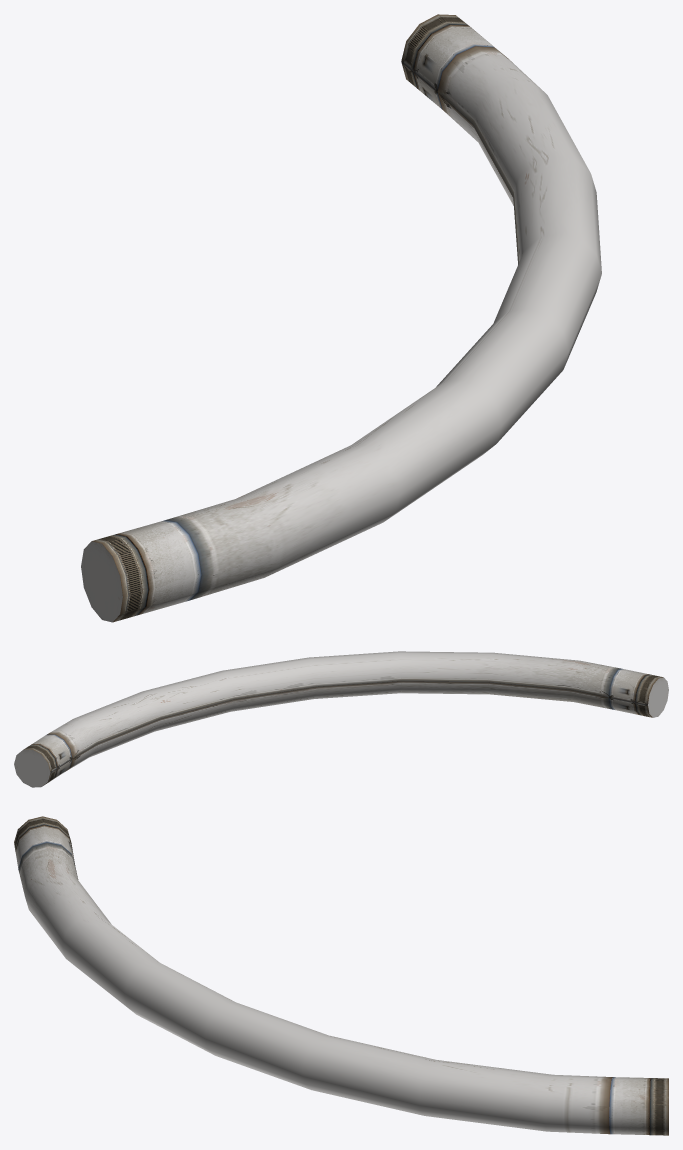
The model's file is scifi_pipe_small_curve1_2.FBX.
The picture shows the model from 3 angles, top to bottom: view 1: azimuth 30°, elevation 25°; view 2: azimuth 150°, elevation 25°; view 3: azimuth 270°, elevation 25°; orthographic projection. The views are drawn at different scales.
Parts seen in each view (by area): view 1: Cylinder029; view 2: Cylinder029; view 3: Cylinder029.
Part boxes in pixels (left/top/right/bottom): Cylinder029: left=81, top=14, right=601, bottom=622; Cylinder029: left=14, top=651, right=668, bottom=787; Cylinder029: left=14, top=816, right=668, bottom=1135.
Bounding box in the file's own units: 292 × 25.62 × 292.
